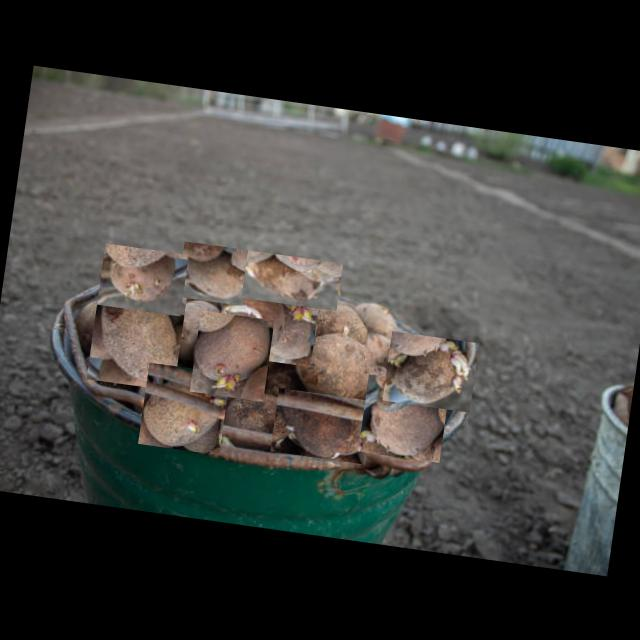Sprouted potato: (86, 277, 187, 390), (214, 275, 320, 366), (137, 362, 230, 454), (284, 324, 384, 406), (357, 373, 449, 462), (270, 386, 374, 464), (382, 330, 478, 412), (189, 309, 274, 401), (96, 242, 188, 316), (240, 249, 342, 310), (176, 240, 249, 305)
